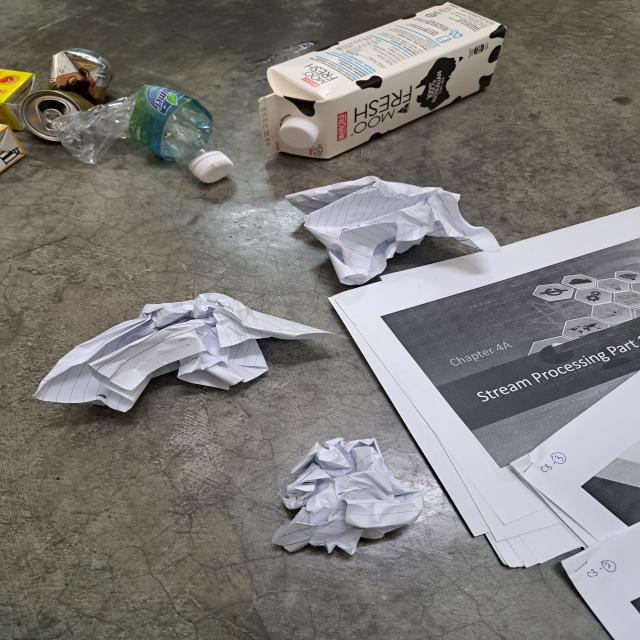can: (23, 48, 112, 143)
drink carton: (261, 2, 506, 158), (0, 68, 37, 130), (0, 123, 26, 176)
paper: (328, 207, 640, 640), (35, 291, 333, 414), (286, 176, 502, 286), (269, 437, 423, 555)
plastic bottle: (58, 84, 232, 185)
plastic bottle cap: (270, 115, 319, 154), (191, 150, 230, 185)
pop tab: (42, 108, 63, 134)
